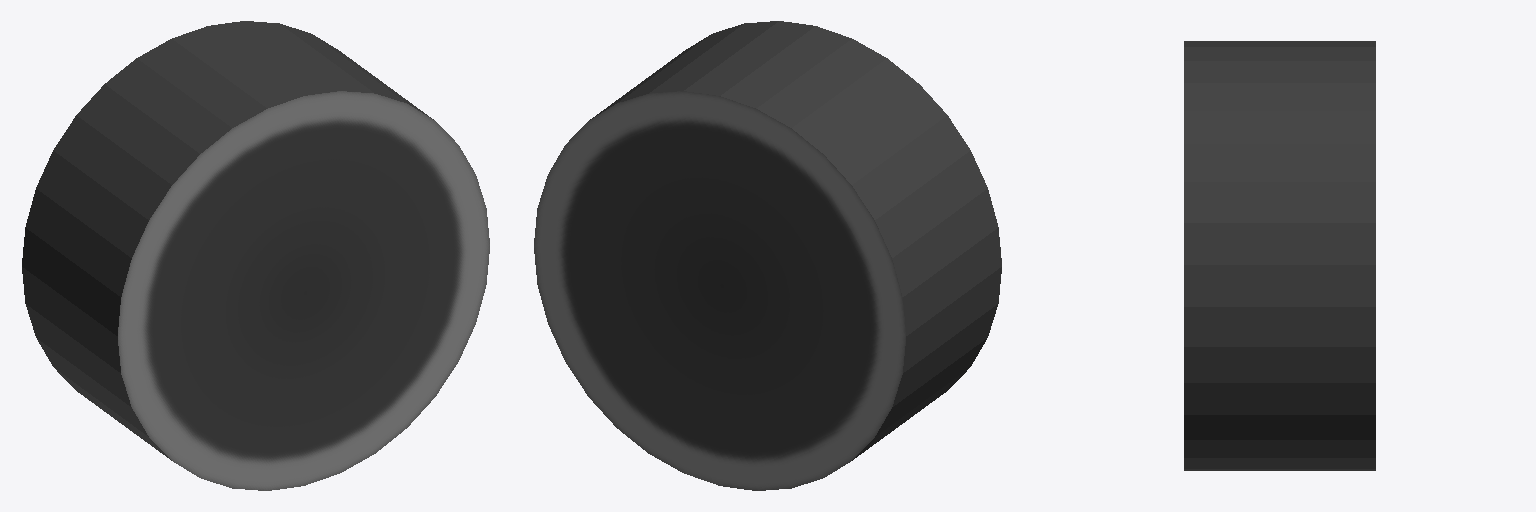
3 views of the same model, side by side, from view 1: azimuth 30°, elevation 25°; view 2: azimuth 150°, elevation 25°; view 3: azimuth 270°, elevation 25° (orthographic).
Visible parts, largest first — view 1: Cylinder; view 2: Cylinder; view 3: Cylinder.
Boxes of the visible parts, box(x1,y1,x2,y2) form: Cylinder: box(22, 21, 489, 490); Cylinder: box(534, 21, 1001, 490); Cylinder: box(1184, 41, 1375, 470).
Bounding box in the file's own units: 200 × 200 × 89.12.
1 materials, 1 textured.